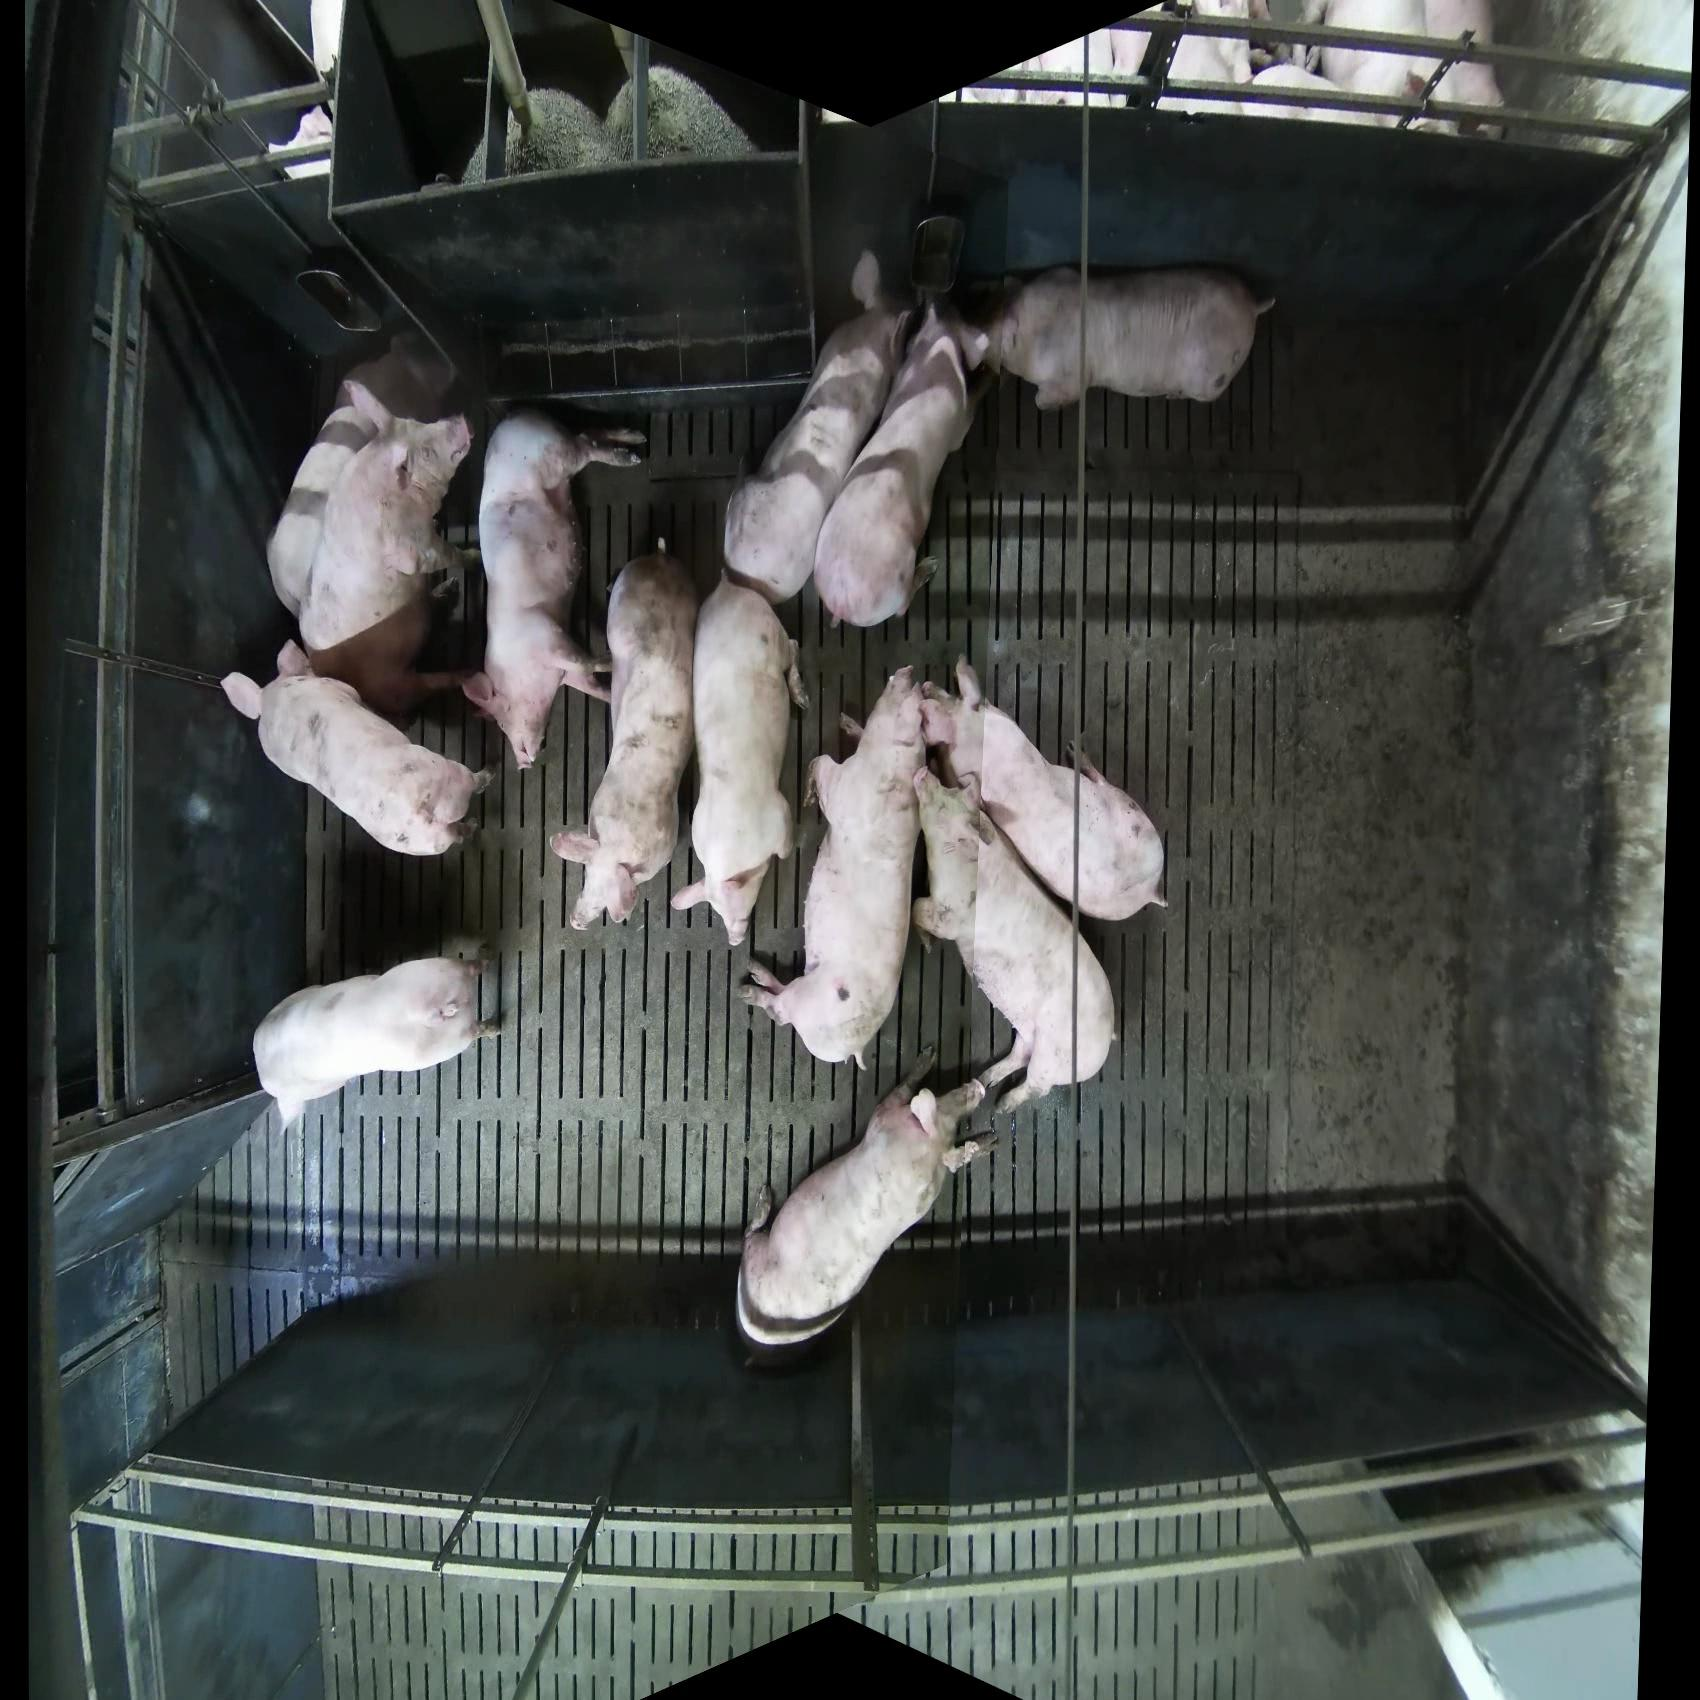pig: (738, 663, 953, 1070), (733, 1051, 999, 1350), (912, 761, 1118, 1122), (461, 403, 649, 774), (722, 251, 918, 606), (923, 654, 1171, 923), (813, 290, 992, 629), (220, 641, 493, 859), (548, 542, 701, 933), (294, 408, 476, 722), (265, 328, 459, 620), (669, 567, 811, 950), (251, 953, 500, 1140), (973, 262, 1280, 413), (282, 585, 483, 722), (1107, 2, 1256, 118), (1414, 2, 1509, 139), (1306, 2, 1429, 100)
